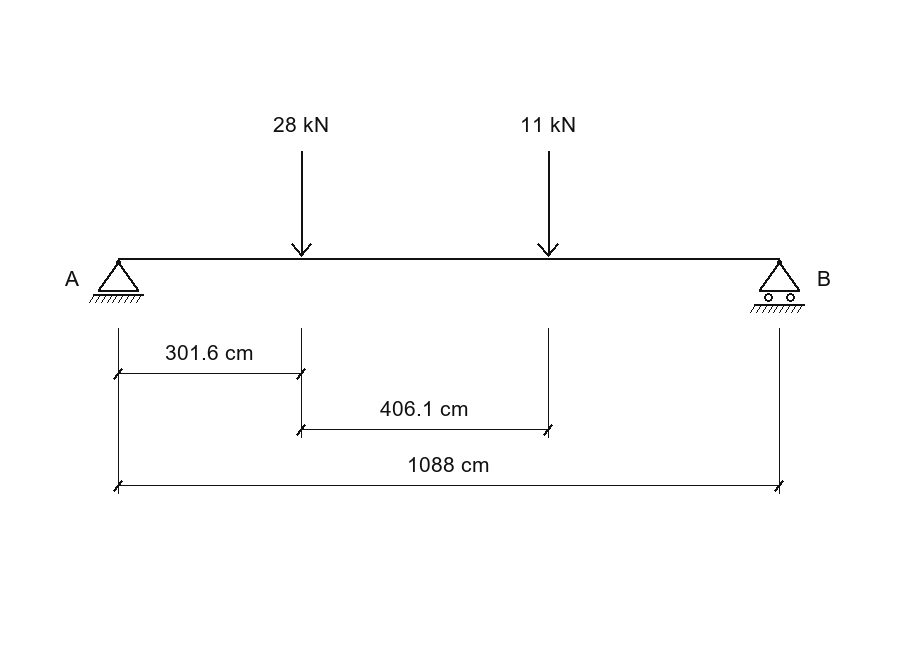pin_support: (89, 260, 144, 303)
point_load: (537, 151, 559, 257), (291, 151, 312, 257)
roller_support: (750, 260, 805, 313)
